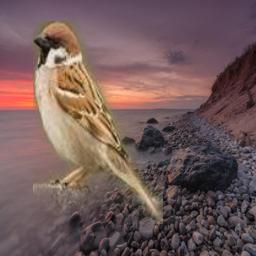Sparrow: (33, 21, 163, 224)
